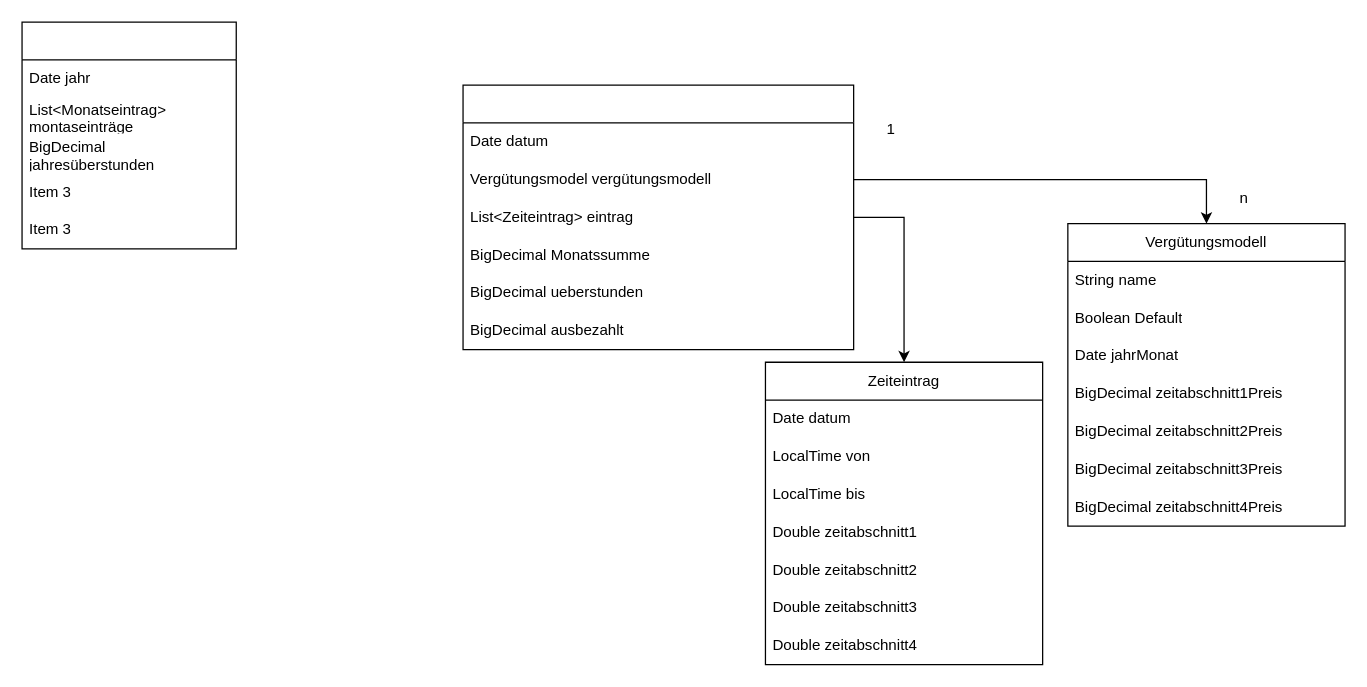
This 1367x687 diagram has some shape labels left out. The box of each missing label's shape, as (x1, y1, x2, y2) in pixels:
JahresEinrtrag: (21, 21, 236, 249)
Monatsarbeitsnachweis: (462, 84, 854, 350)
